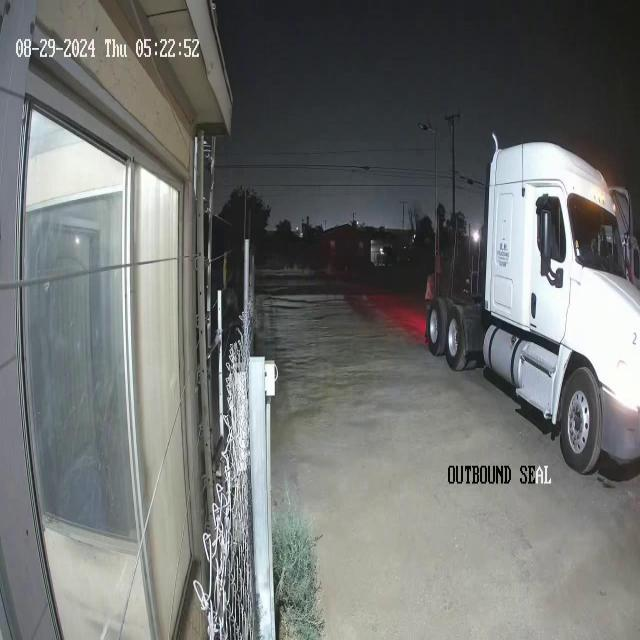TRUCK_IN: (425, 133, 639, 476)
